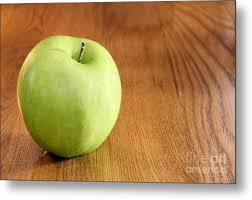apple: (21, 37, 121, 164)
